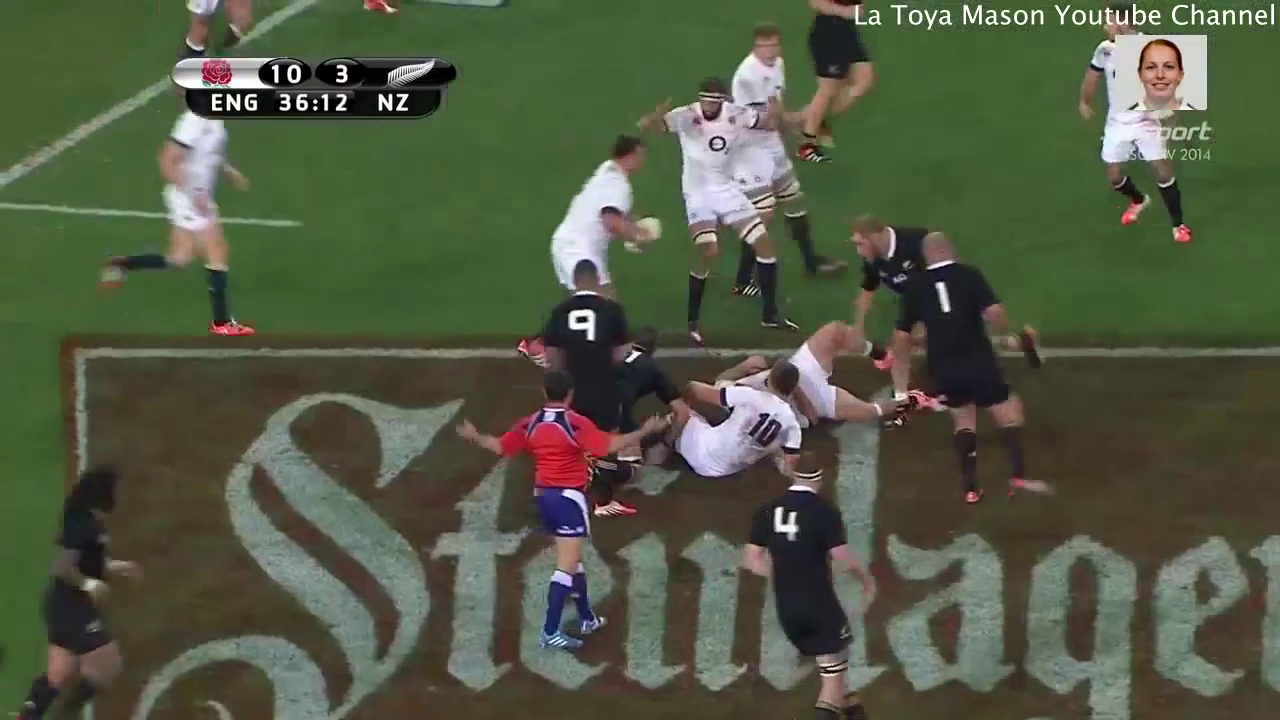ball: (625, 198, 666, 252)
player: (448, 363, 679, 665), (882, 218, 1052, 513), (637, 68, 800, 352), (93, 97, 277, 341), (1, 453, 153, 720), (747, 448, 879, 720), (728, 299, 958, 451), (725, 12, 849, 280), (1071, 6, 1195, 248), (521, 249, 635, 488), (526, 119, 681, 292), (618, 351, 817, 480), (800, 1, 889, 168), (830, 192, 930, 310)
